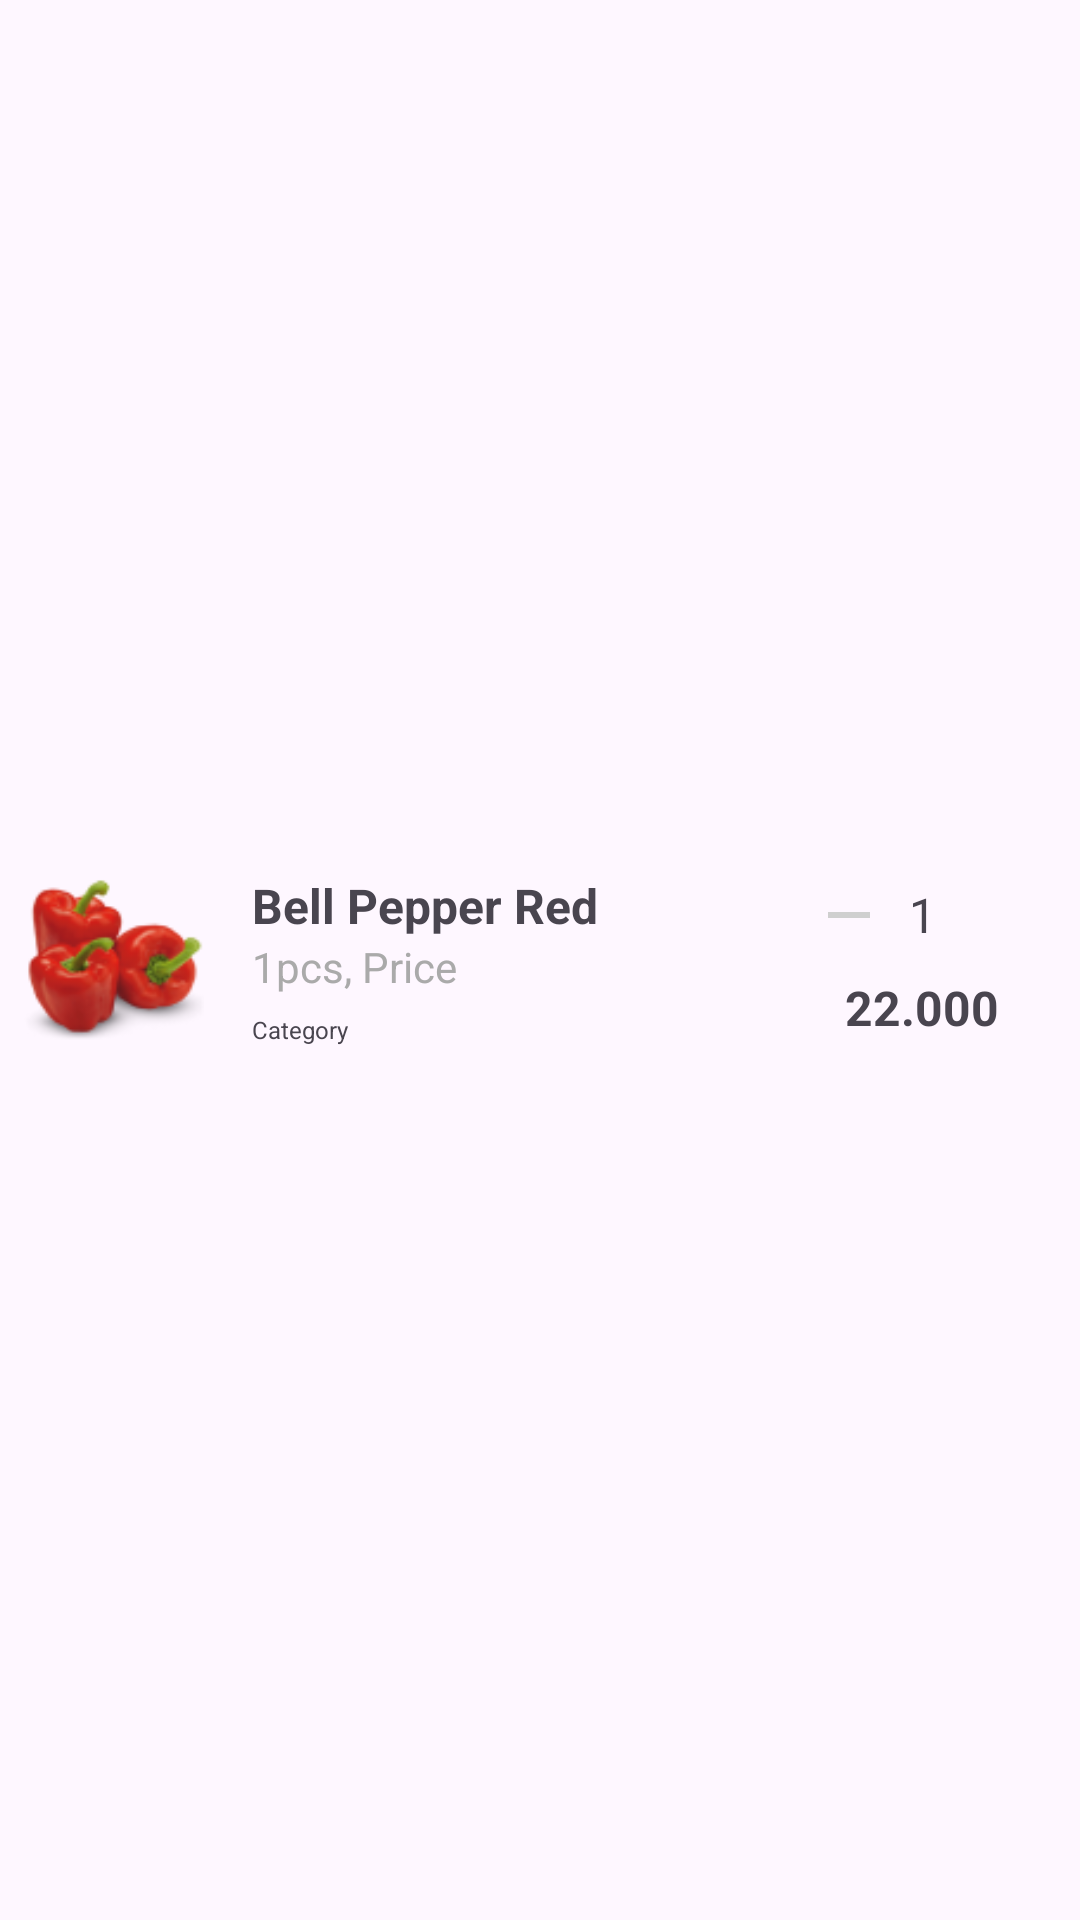

Point at icon controls on the screen. Image size 1080px x 1920px, points as [x,y].
fruit: [115,958]
